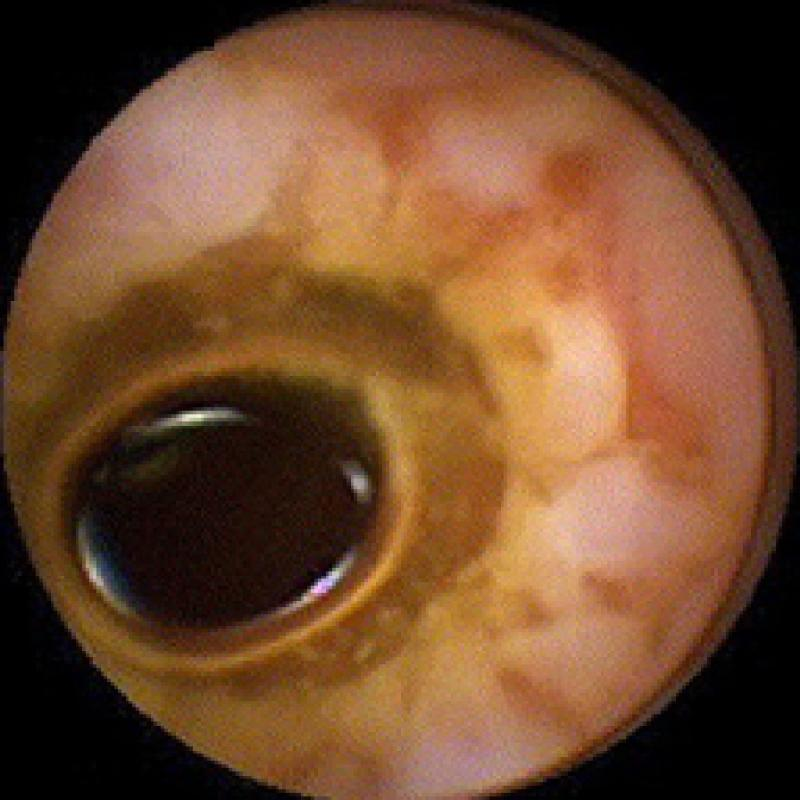bleeding: (57, 378, 389, 646)
